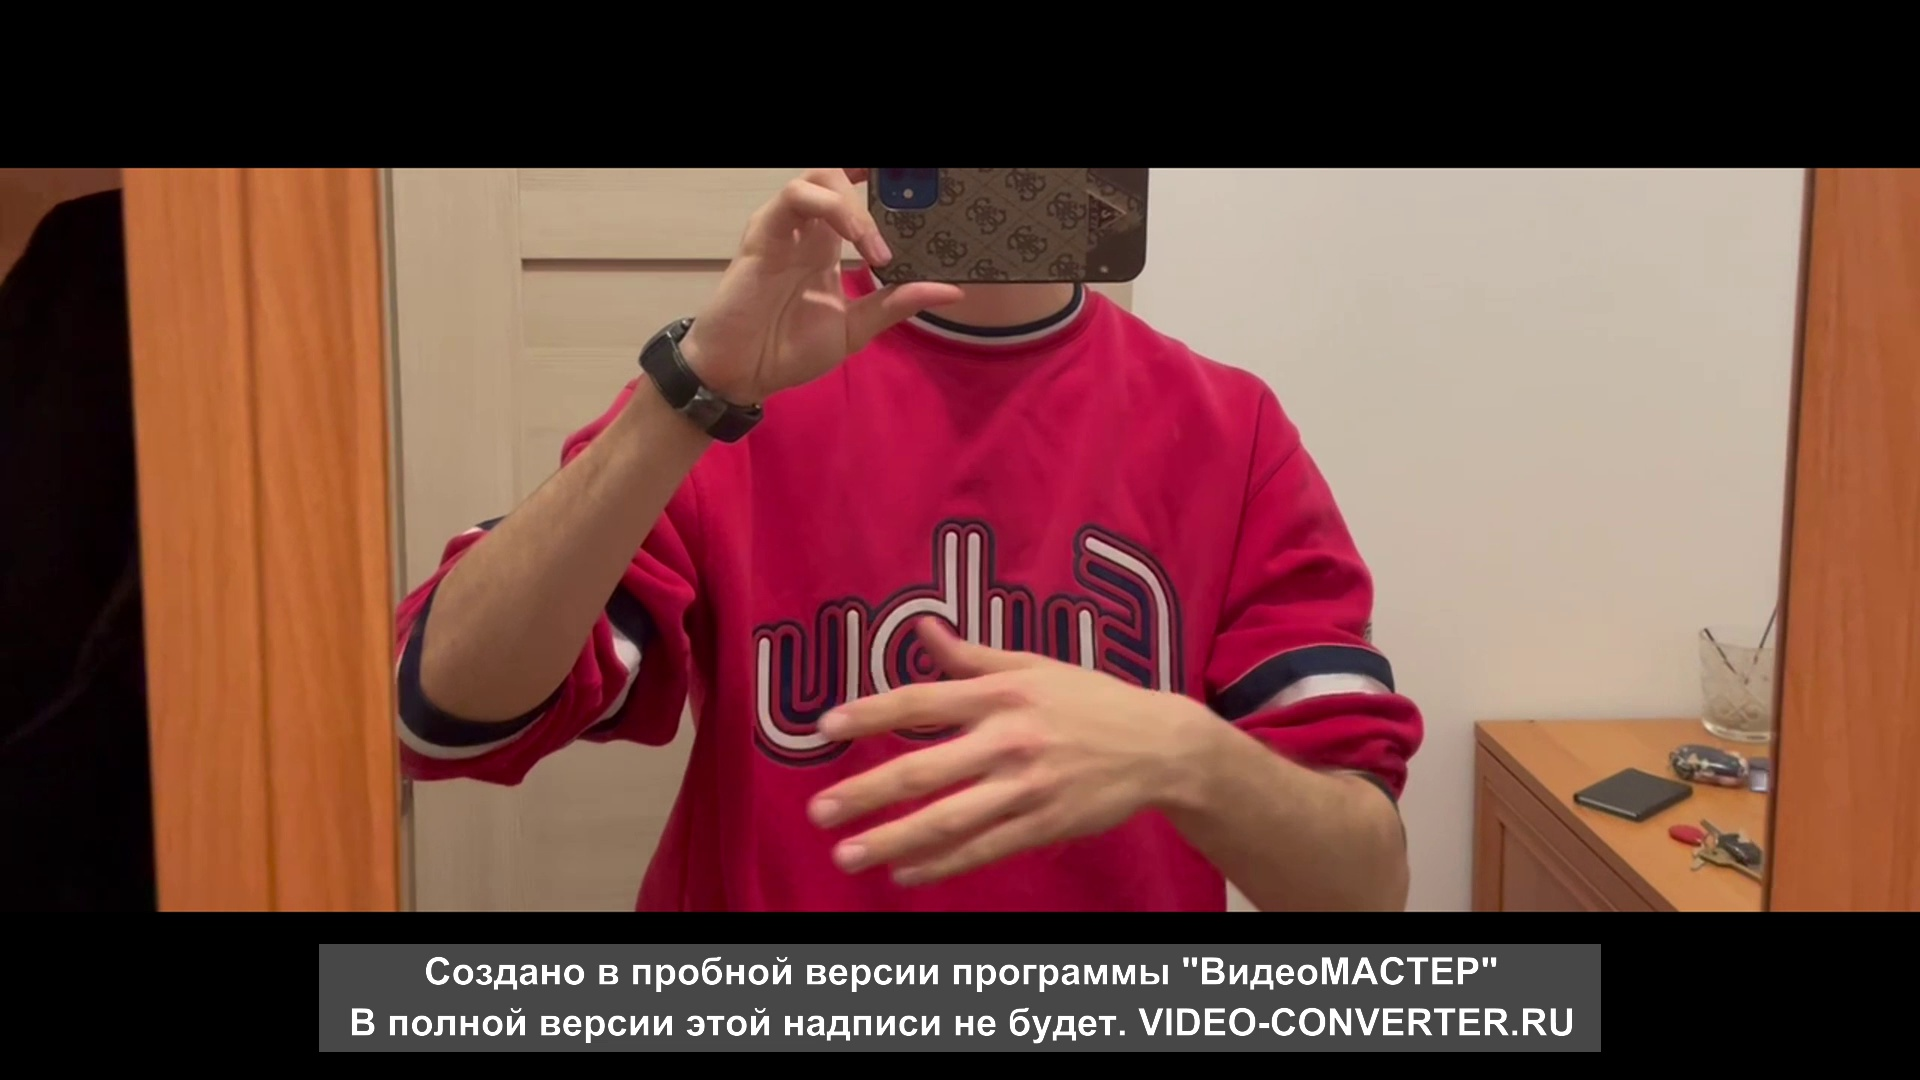Кисть: (808, 612, 1158, 884)
